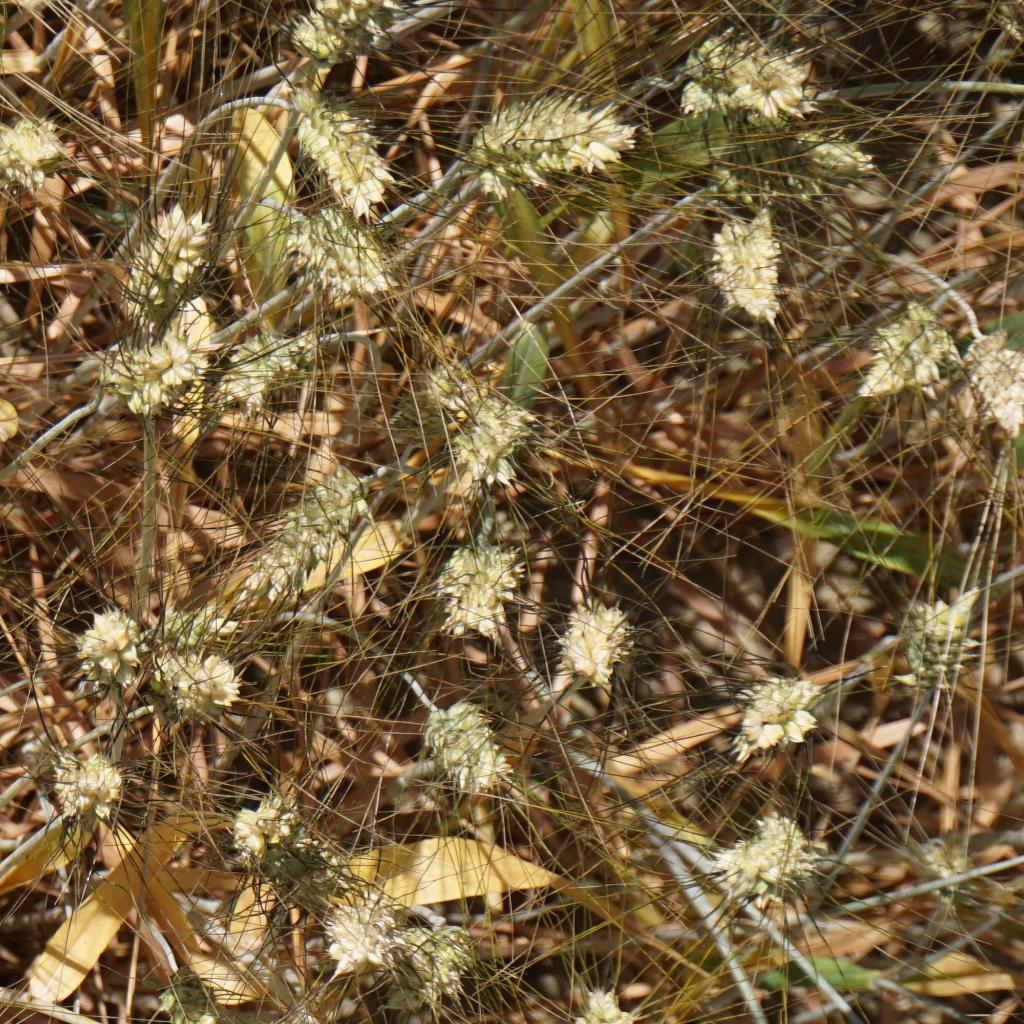0-0: (710, 121, 901, 206), (466, 94, 616, 202), (253, 474, 350, 616), (279, 94, 393, 198), (94, 197, 200, 305), (667, 41, 803, 125), (700, 206, 791, 330), (279, 208, 393, 303), (108, 305, 204, 417), (891, 579, 986, 685), (41, 726, 141, 823), (718, 801, 815, 900), (421, 695, 516, 795), (730, 668, 823, 766), (862, 289, 949, 390), (224, 787, 314, 870), (437, 537, 516, 630), (53, 602, 137, 689), (458, 388, 533, 484), (961, 321, 1024, 431), (141, 644, 246, 709), (151, 933, 226, 1024), (313, 880, 390, 968), (212, 334, 295, 411), (291, 0, 401, 58), (407, 907, 480, 992), (551, 584, 618, 675), (0, 112, 74, 181), (415, 336, 470, 423), (557, 982, 640, 1024), (222, 994, 314, 1024)
